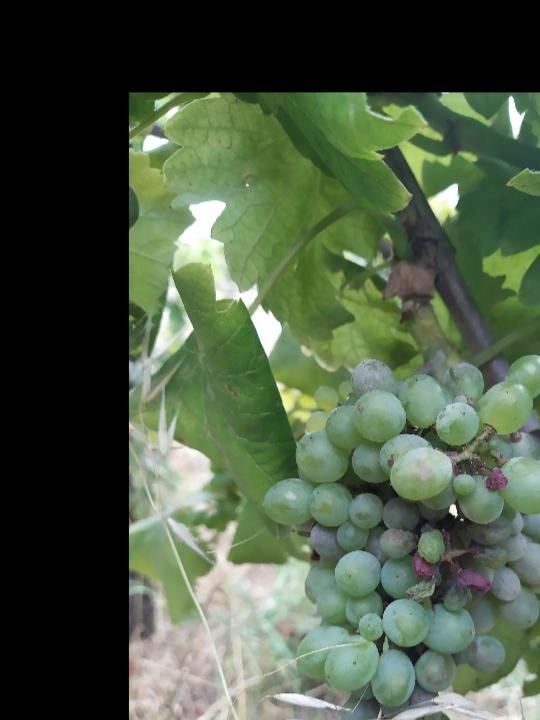grape: (259, 352, 540, 720)
